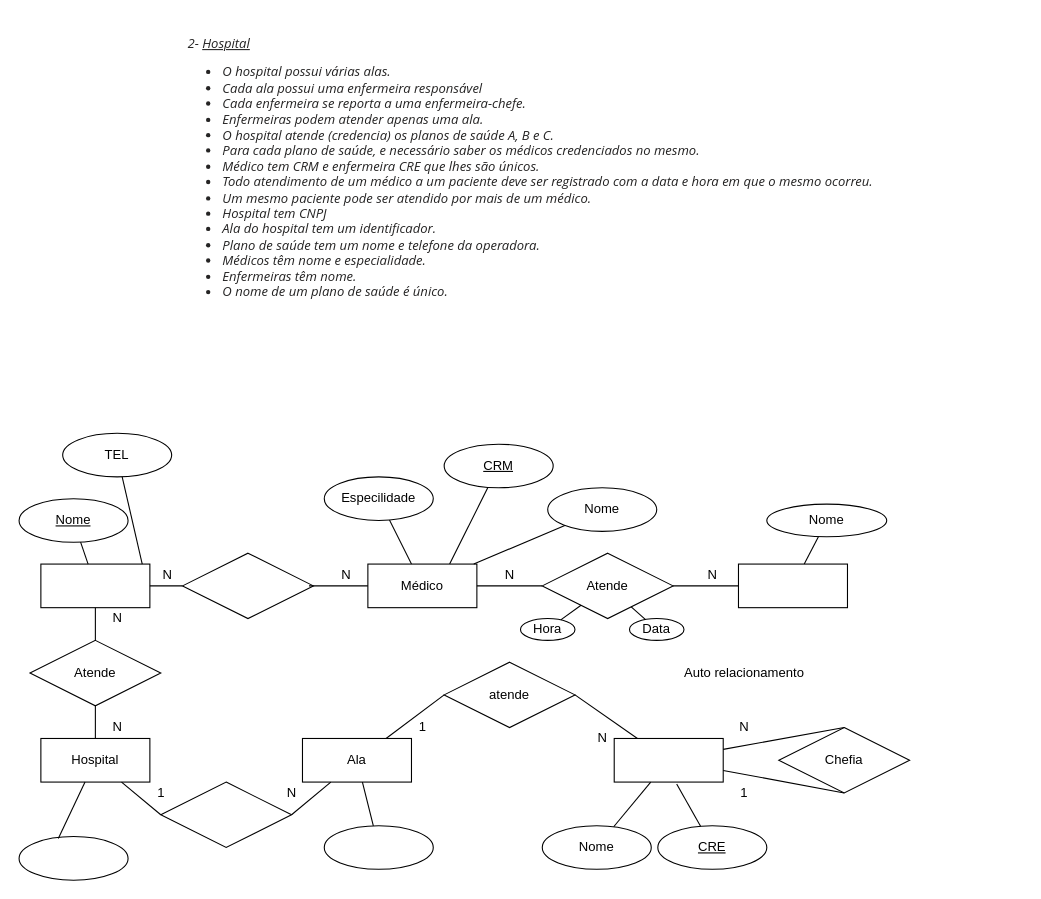
Some shapes in this 1041 by 899 pixel diagram are drawn without their labels. Each missing label, with the box of its shape:
CNPJ: (18, 835, 128, 880)
Codigo: (323, 825, 433, 869)
Credencia: (181, 552, 313, 619)
Enfermeira: (613, 737, 723, 782)
Paciente: (737, 563, 847, 608)
Plano de saude: (40, 563, 150, 608)
possui: (160, 781, 292, 847)
